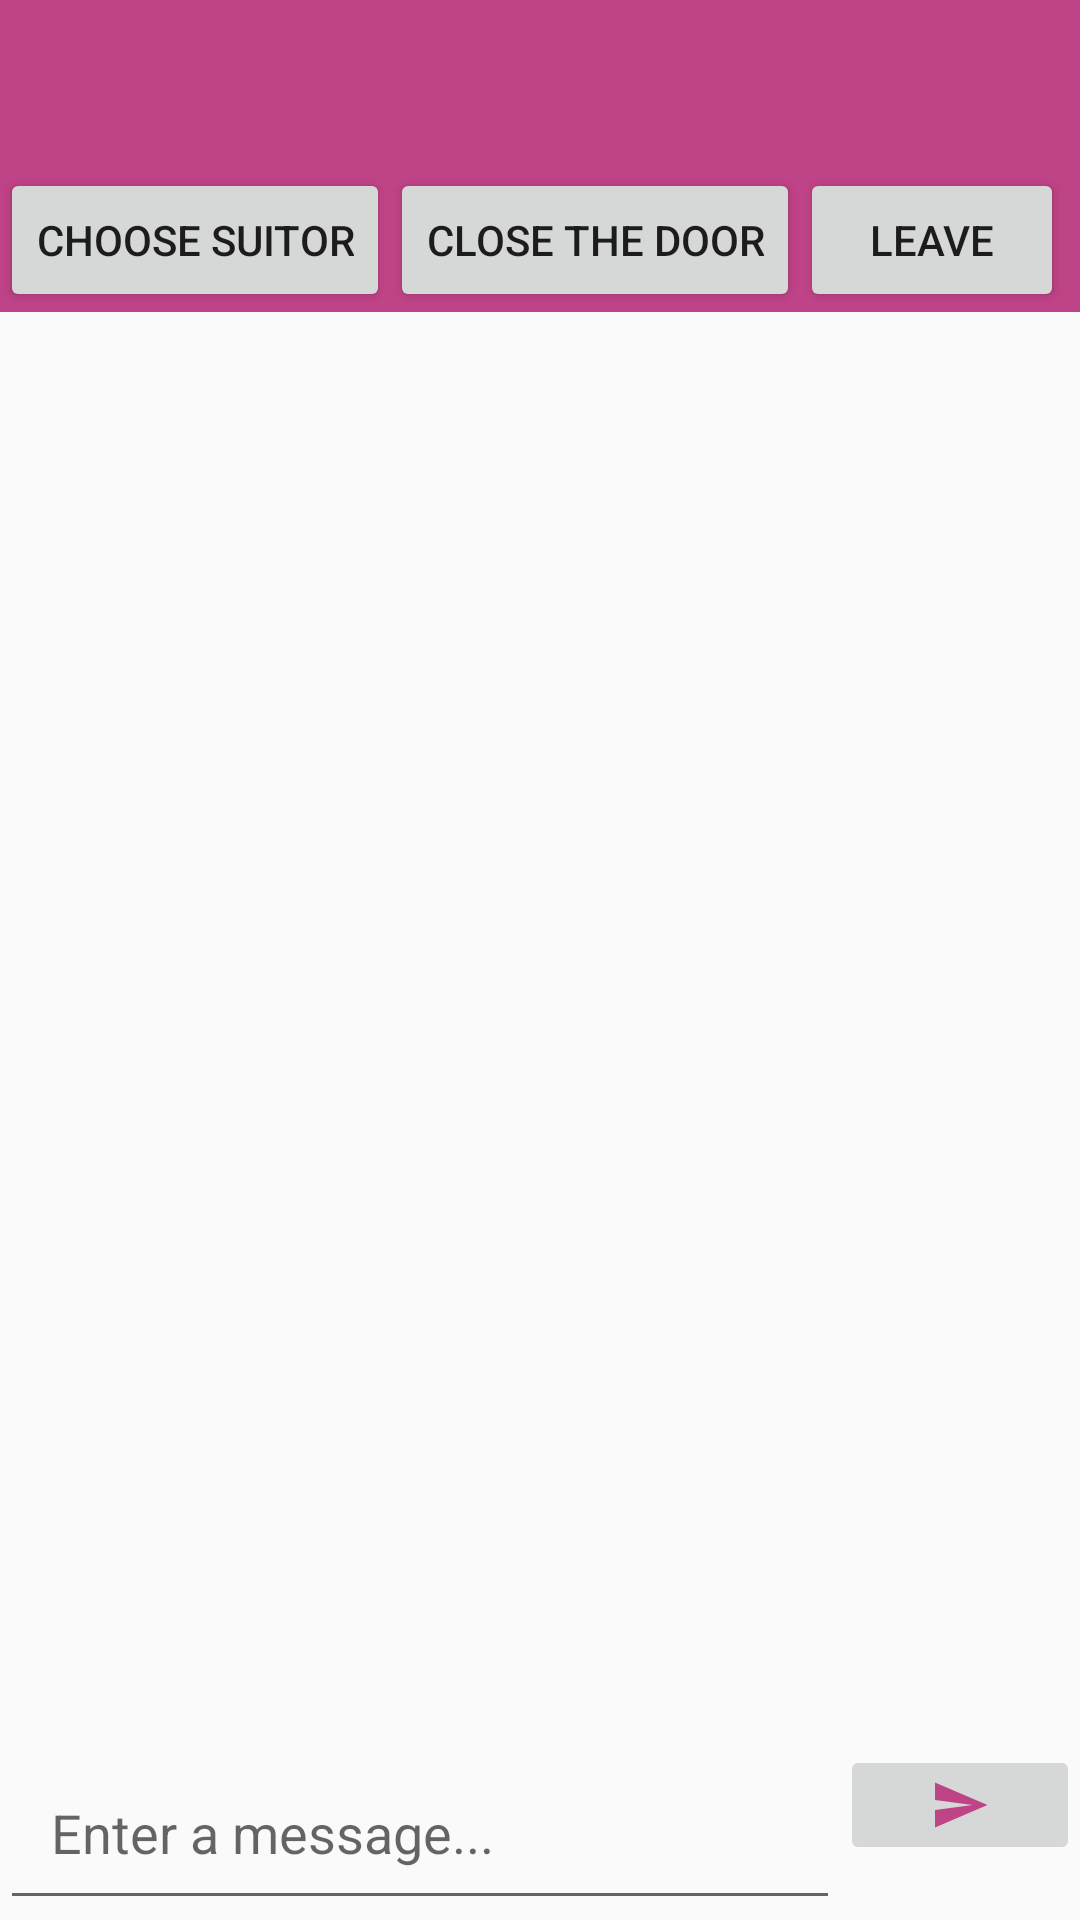

Icon bounding boxes for this 1080x1920 phone screenshot, format bbox(x1, y1, x2, y2):
send: bbox(852, 1763, 1068, 1847)
